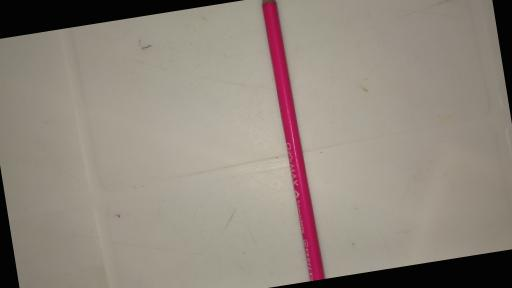Pencil: (261, 0, 323, 282)
